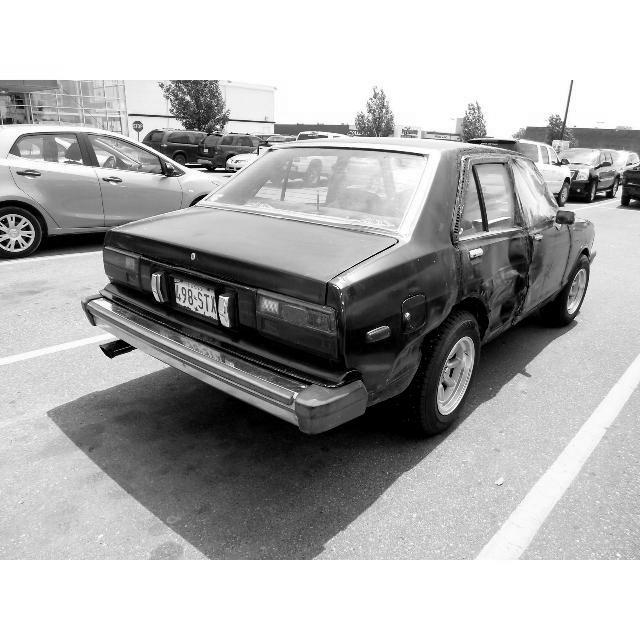doorouter-dent: (456, 229, 539, 333)
